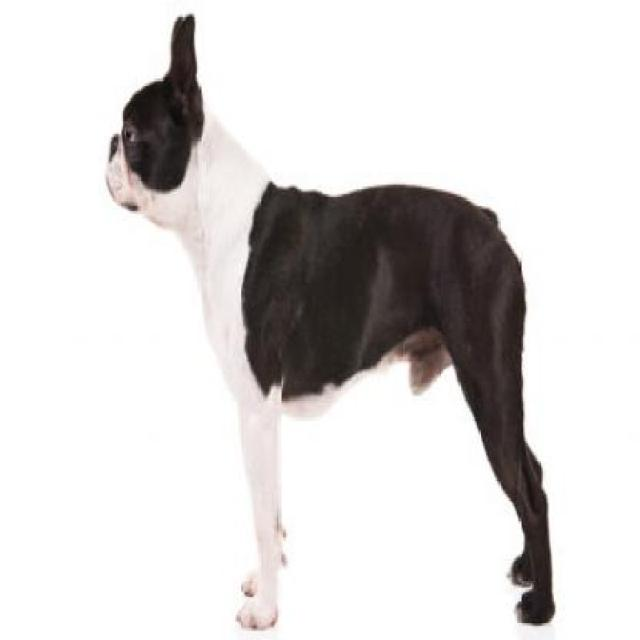animals: (100, 11, 560, 627)
